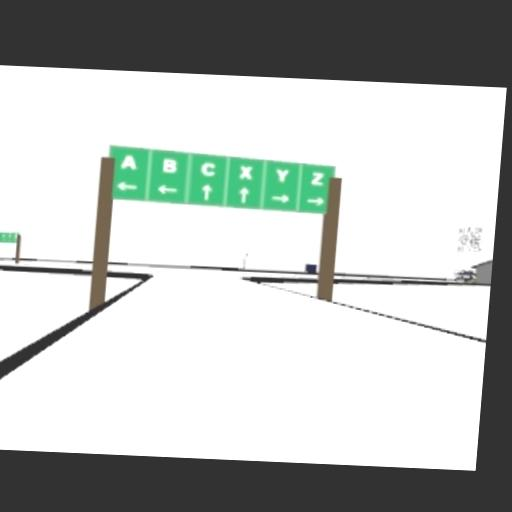A: (118, 152, 137, 168)
B: (162, 156, 176, 172)
C: (199, 161, 215, 175)
Left: (157, 182, 177, 194), (116, 180, 137, 190)
Right: (270, 192, 290, 204), (305, 194, 323, 205)
Straight: (200, 183, 214, 201), (237, 186, 251, 203)
X: (238, 165, 251, 178)
Y: (275, 166, 288, 182)
Z: (310, 171, 324, 184)
